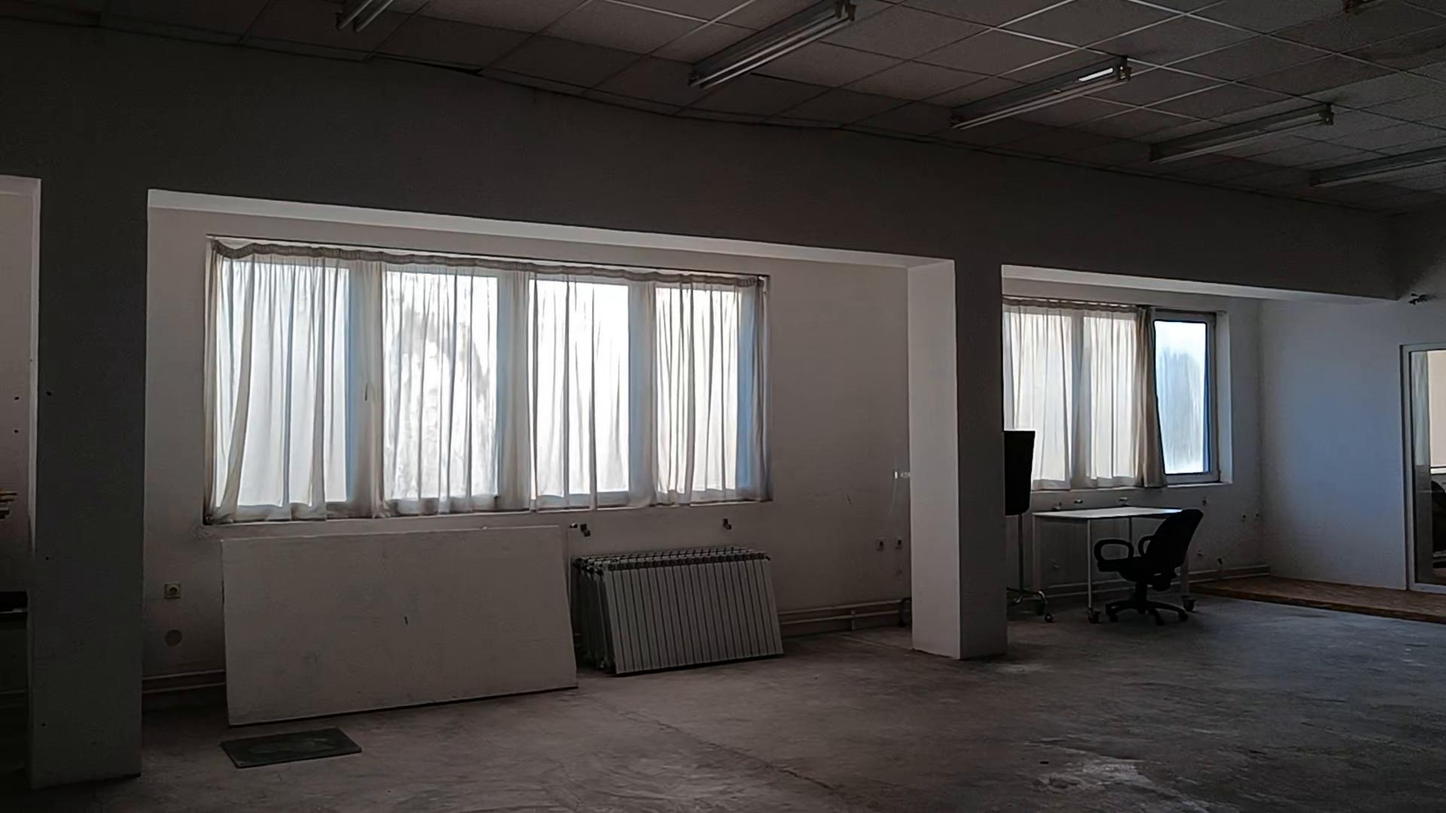ceiling: (0, 0, 1445, 209)
floor: (0, 598, 1445, 812)
wall: (3, 29, 1442, 778), (147, 193, 777, 680), (908, 260, 1008, 659)
